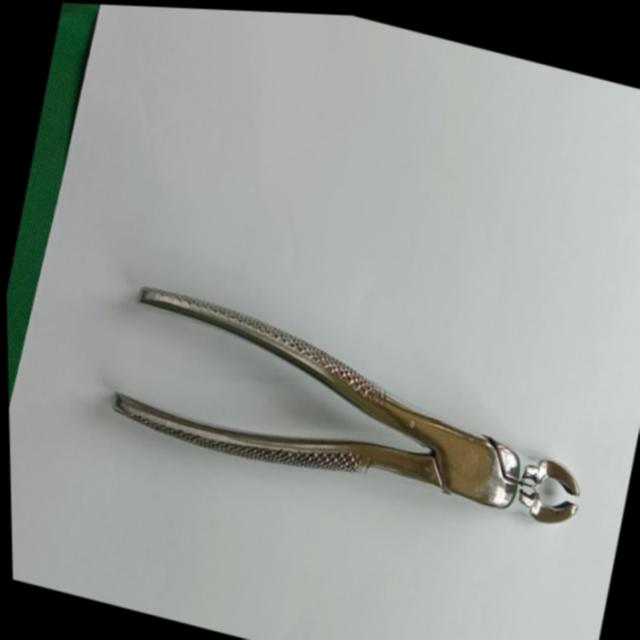BayonetForcep: (99, 267, 600, 546)
